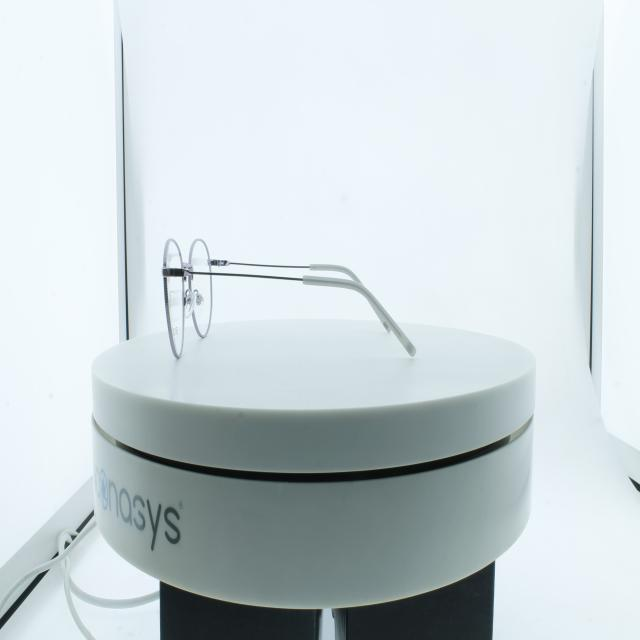Specs: (153, 211, 430, 378)
